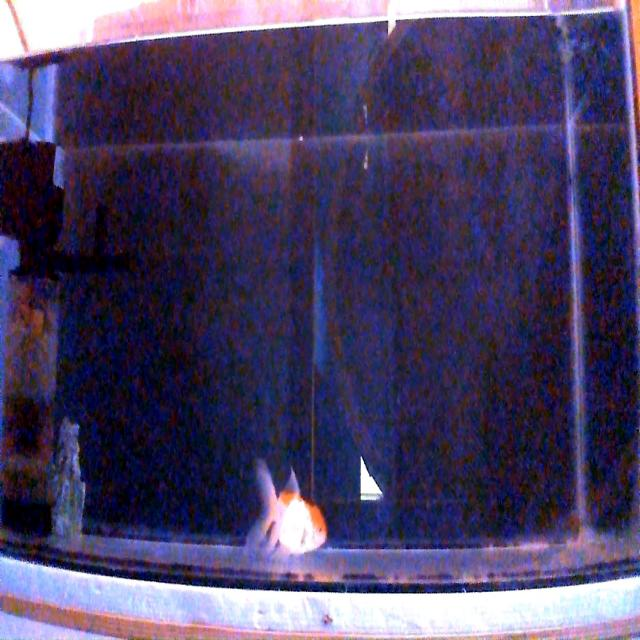fish: (245, 458, 329, 560)
